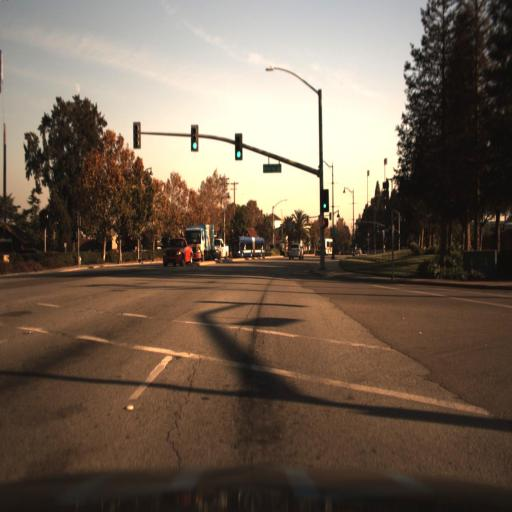car: (161, 236, 194, 264), (314, 234, 340, 258), (208, 236, 228, 262), (284, 238, 306, 260), (283, 238, 304, 261)
trafficLight: (131, 119, 141, 147)
trafficLight-Green: (233, 128, 243, 160), (190, 120, 199, 154), (320, 189, 330, 213)
truck: (184, 222, 215, 262), (233, 232, 266, 259)
